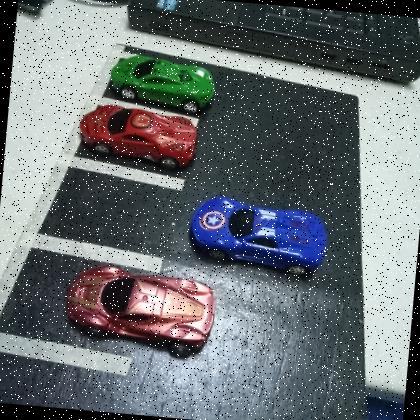Car: (60, 260, 218, 358), (186, 191, 331, 278), (74, 103, 200, 172), (106, 50, 219, 115)
